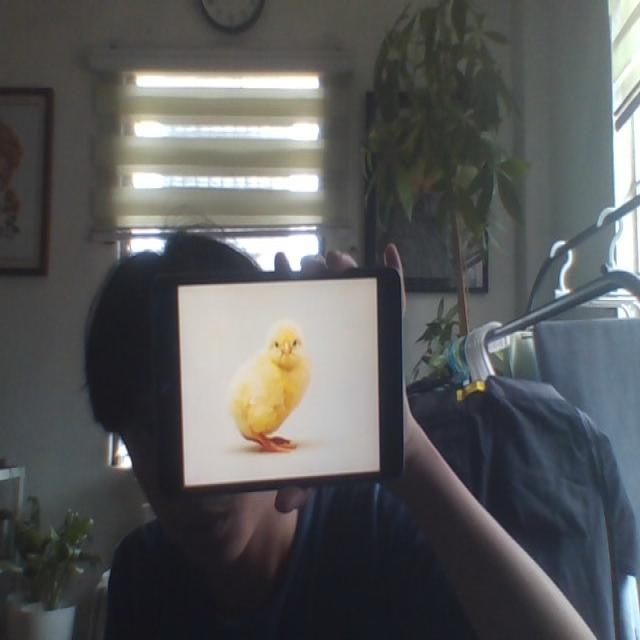Healthy: (230, 326, 312, 454)
